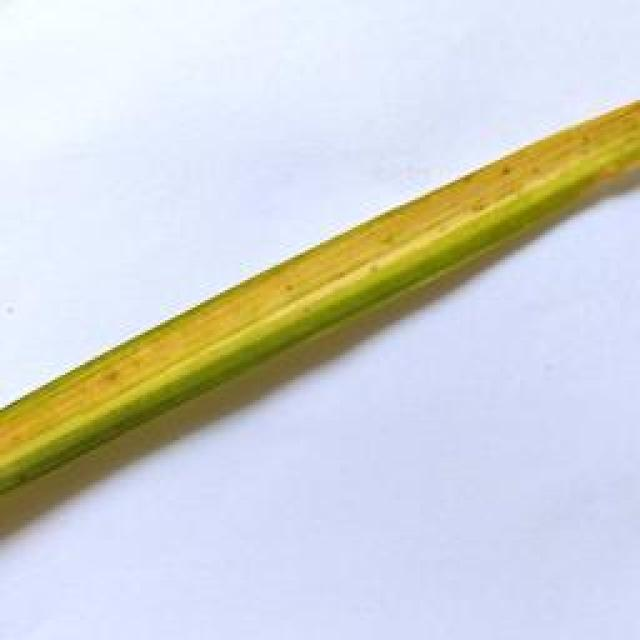Bacterial_Blight: (0, 88, 640, 478)
